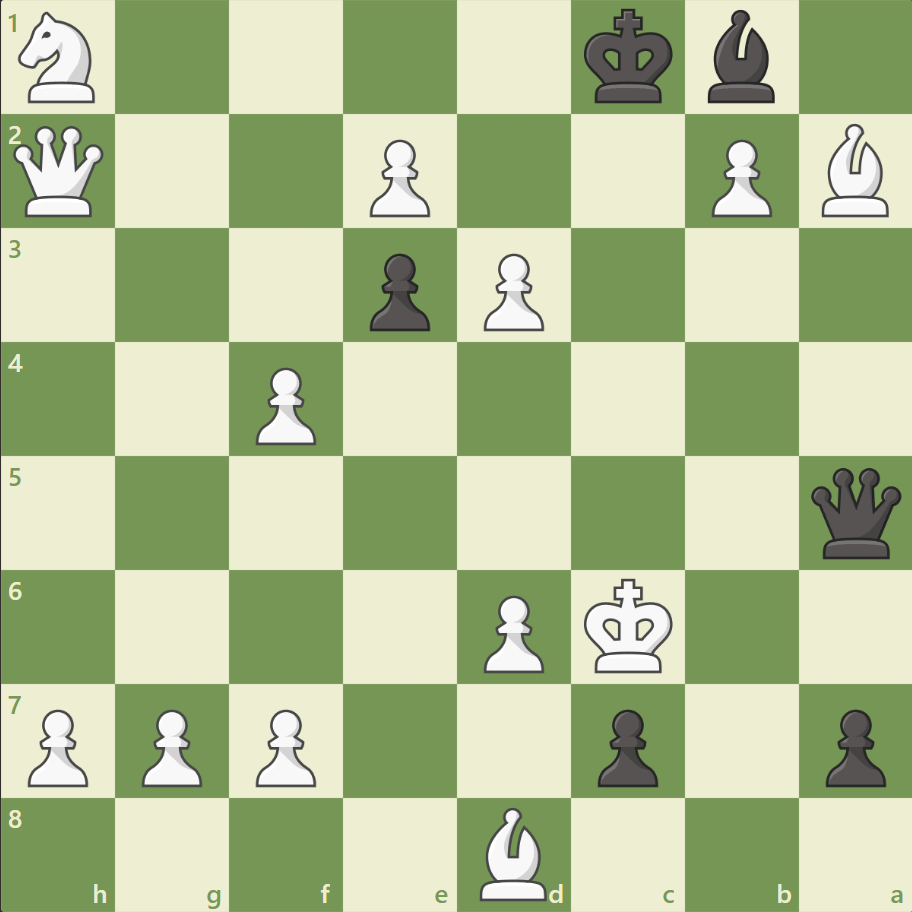B: (471, 801, 555, 904), (812, 120, 896, 222)
K: (579, 571, 679, 679)
N: (11, 7, 108, 110)
P: (247, 700, 322, 791), (133, 700, 208, 791), (20, 700, 95, 791), (474, 586, 549, 677), (247, 359, 322, 450), (474, 246, 549, 337), (701, 132, 776, 223), (361, 132, 435, 223)
Q: (10, 122, 109, 222)
b: (698, 6, 782, 109)
k: (579, 4, 679, 112)
p: (815, 700, 889, 791), (588, 700, 662, 791), (361, 246, 435, 337)
q: (805, 463, 904, 562)
